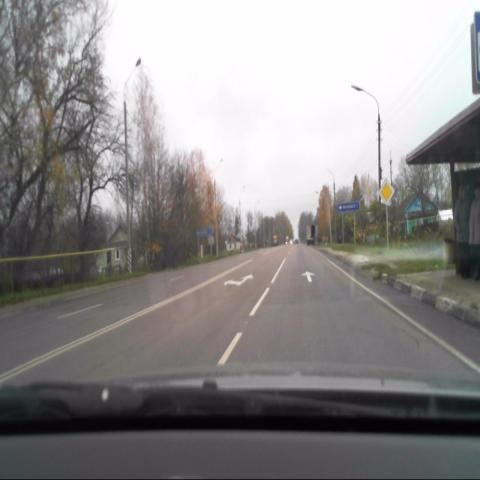2_1: (377, 178, 393, 206)
